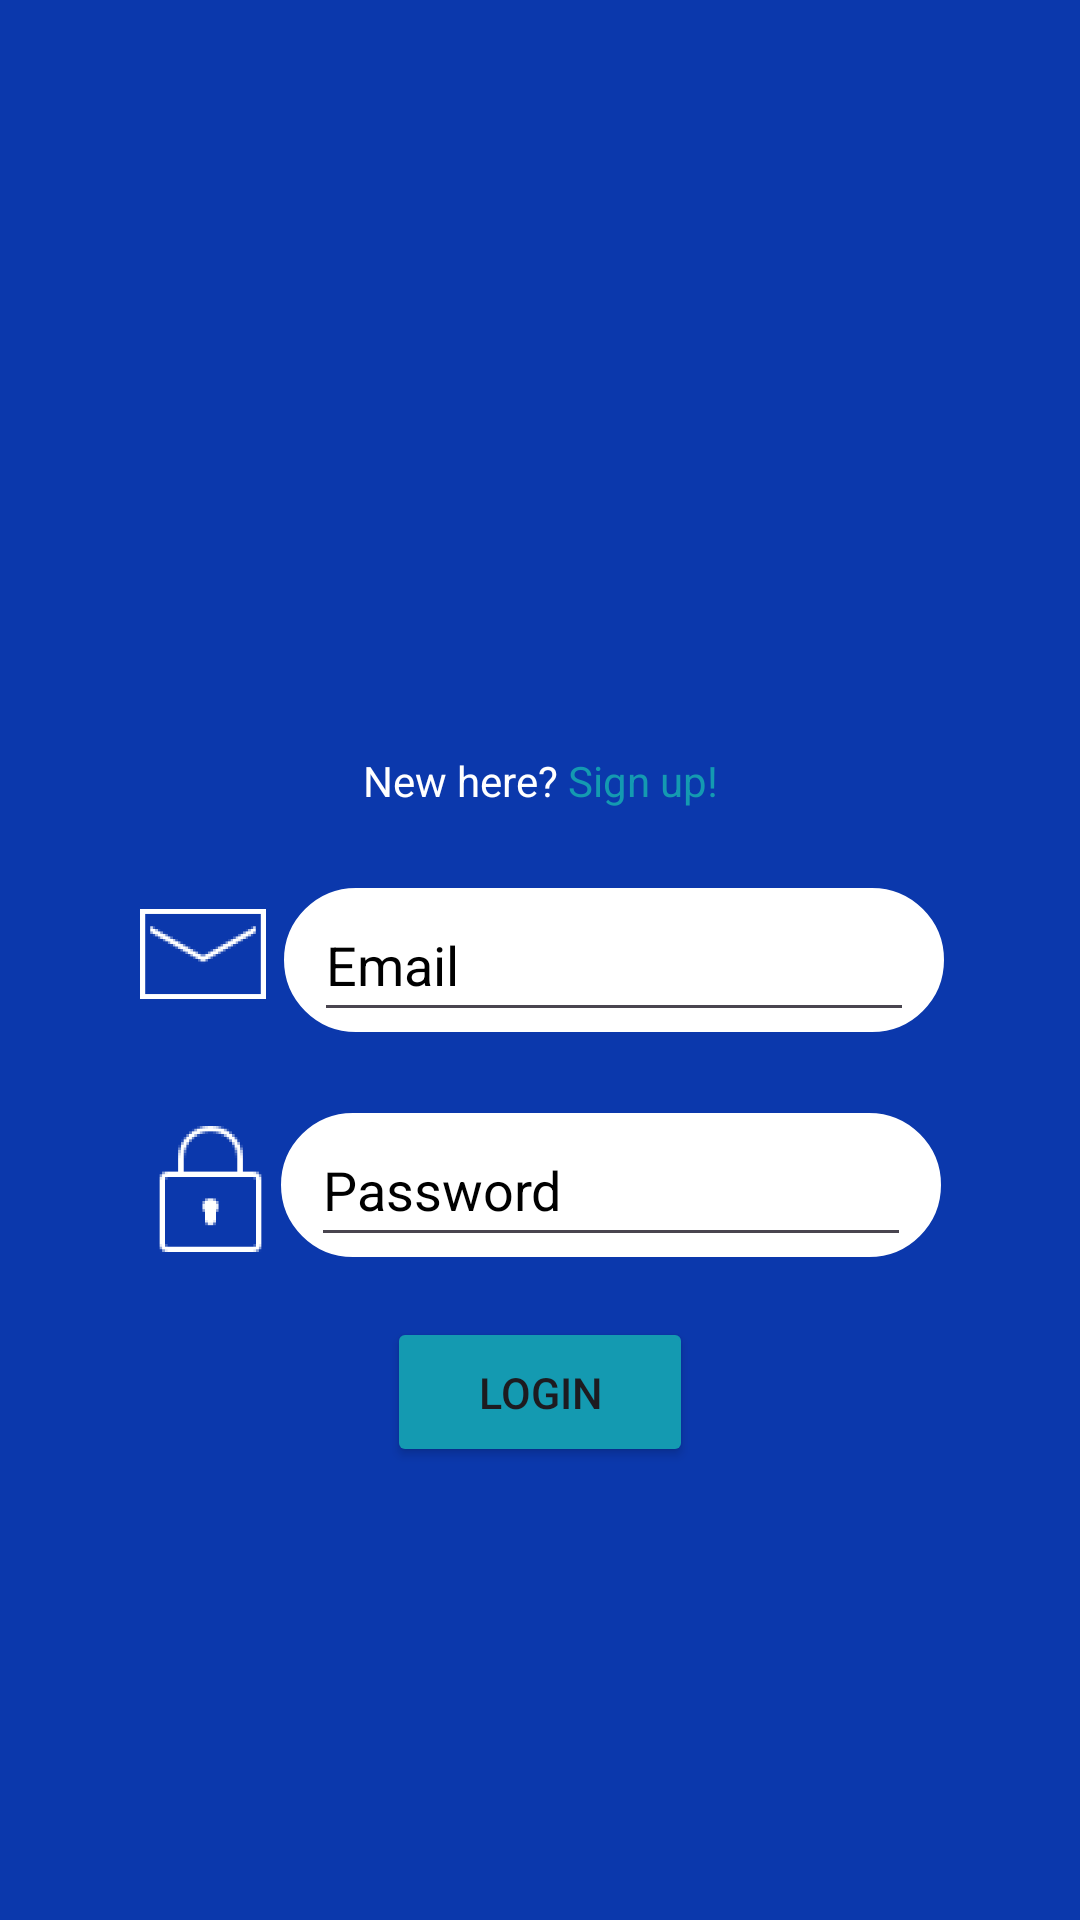

Named icons in this screenshot (1080×1920) and their centers, (x,y):
lock: (210,1189)
